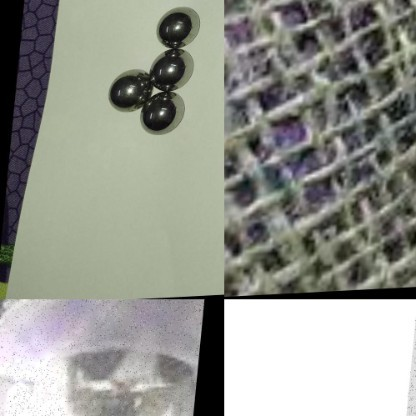ironball: (0, 299, 213, 415), (140, 86, 195, 137), (103, 66, 158, 112), (151, 3, 202, 51), (147, 51, 199, 96)
